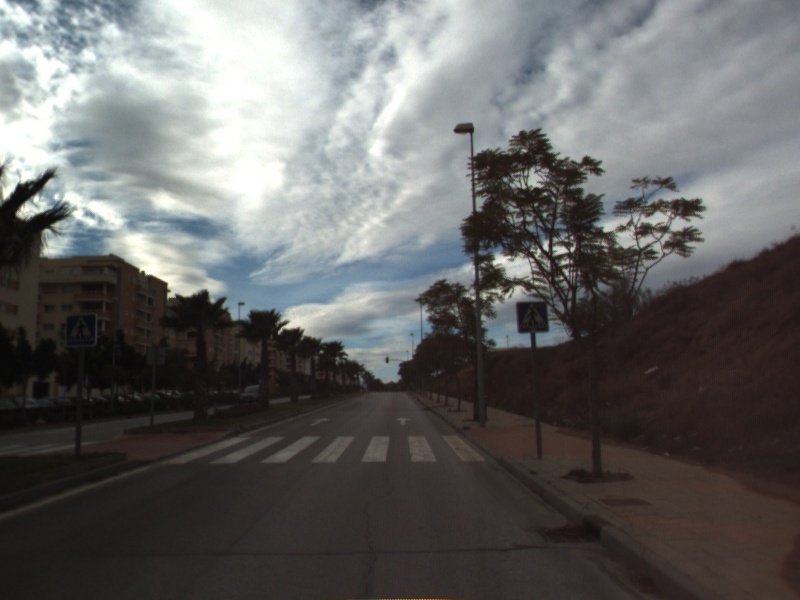STRAIGHT: (307, 415, 332, 428), (393, 415, 413, 427)
